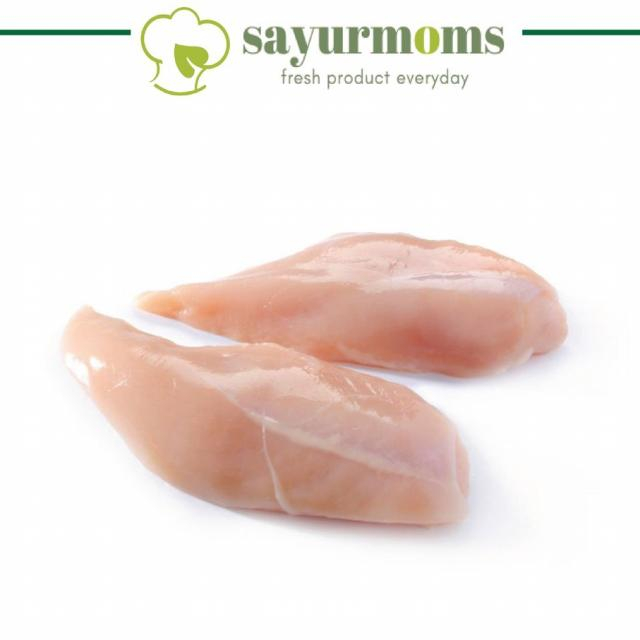chicken: (59, 308, 464, 530), (142, 235, 566, 368)
